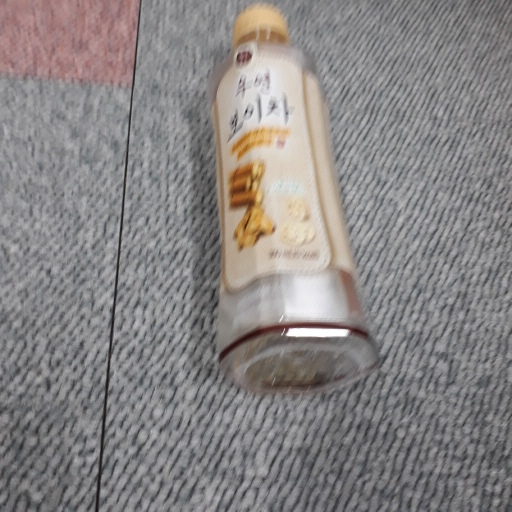Plastic_0: (208, 4, 379, 398)
